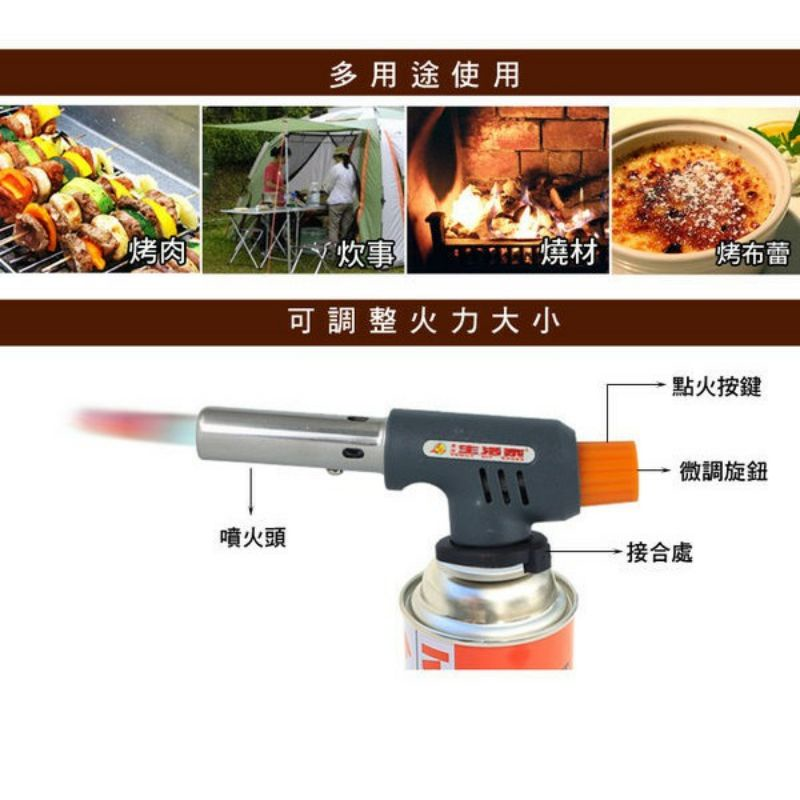gastorch: (196, 405, 651, 667)
